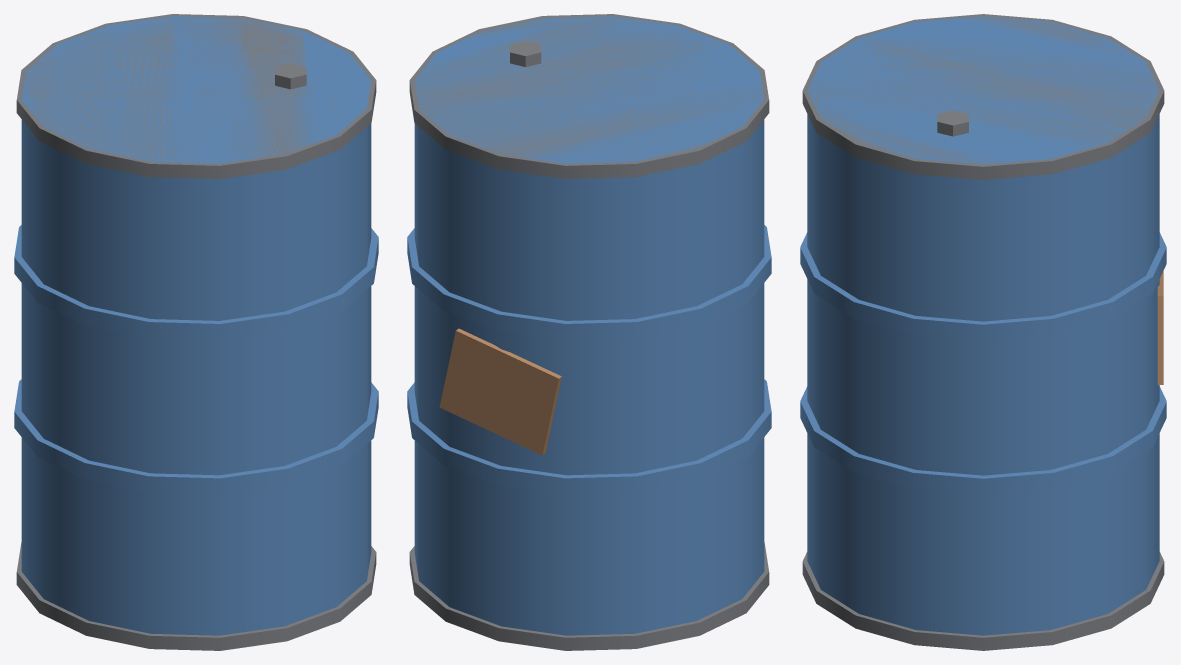
File: oil_drum.glb
The picture shows the model from 3 angles, left to right: view 1: azimuth 30°, elevation 25°; view 2: azimuth 150°, elevation 25°; view 3: azimuth 270°, elevation 25°; orthographic projection.
Parts seen in each view (by area): view 1: body; view 2: body; view 3: body.
Boxes of the visible parts, left/top/right/bottom form: body: left=14, top=14, right=378, bottom=650; body: left=407, top=14, right=771, bottom=650; body: left=800, top=14, right=1166, bottom=650.
Bounding box in the file's own units: 0.604 × 0.9 × 0.604.
